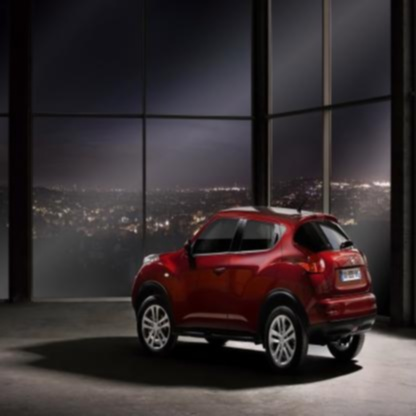Vehicle: (132, 204, 378, 374)
